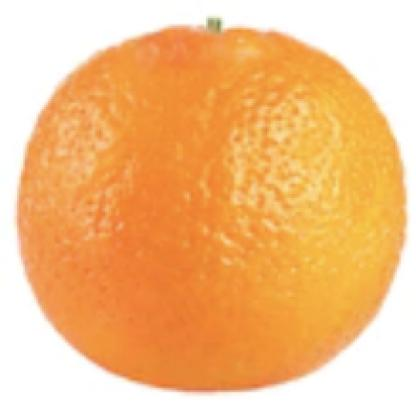fresh: (18, 26, 409, 396)
